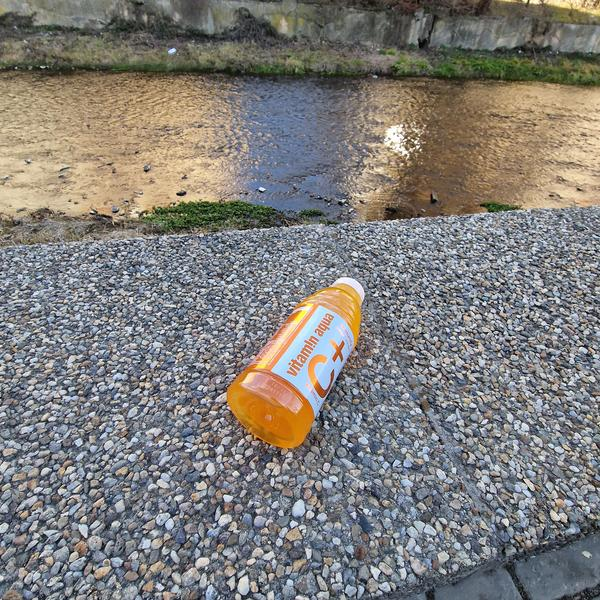plastic_bottle: (216, 252, 387, 460)
